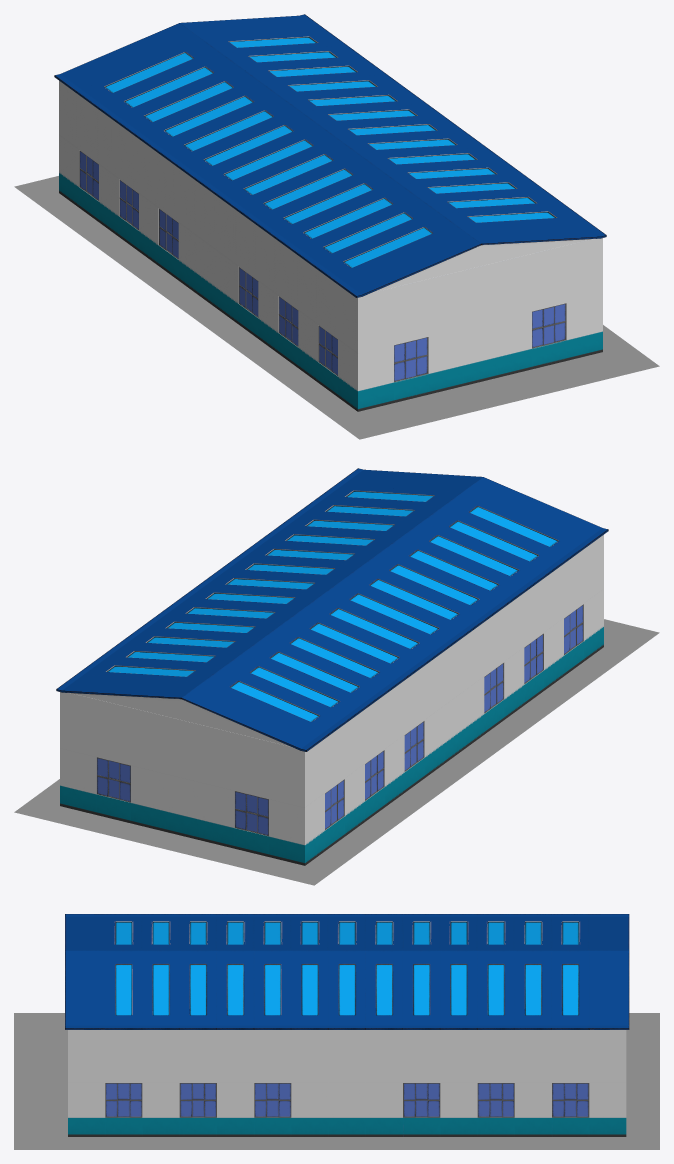
The picture shows the model from 3 angles, top to bottom: view 1: azimuth 30°, elevation 25°; view 2: azimuth 150°, elevation 25°; view 3: azimuth 270°, elevation 25°; orthographic projection. The views are drawn at different scales.
Visible parts, largest first — view 1: U_CF186, U_CF29, U_CF04, U_CF21, U_CF215, U_CF218, U_CF18, U_CF24, U_CF27, U_CF02, U_CF06, U_CF12 (+69 smaller); view 2: U_CF186, U_CF04, U_CF29, U_CF15, U_CF21, U_CF215, U_CF221, U_CF02, U_CF06, U_CF24, U_CF18, U_CF218 (+69 smaller); view 3: U_CF186, U_CF04, U_CF29, U_CF02, U_CF06, U_CF09, U_CF15, U_CF215, U_CF218, U_CF224, U_CF12, U_CF18 (+53 smaller).
Boxes of the visible parts, x1,y1,x2,y2 form: U_CF186: (14, 176, 659, 439); U_CF29: (335, 219, 606, 297); U_CF04: (54, 14, 325, 92); U_CF21: (175, 103, 445, 179); U_CF215: (255, 161, 525, 238); U_CF218: (235, 146, 505, 223); U_CF18: (135, 74, 405, 150); U_CF24: (215, 132, 485, 208); U_CF27: (315, 205, 584, 282); U_CF02: (195, 117, 465, 194); U_CF06: (76, 30, 345, 107); U_CF12: (115, 59, 385, 136); U_CF186: (14, 619, 659, 885); U_CF04: (56, 673, 327, 751); U_CF29: (337, 468, 608, 546); U_CF15: (157, 600, 427, 677); U_CF21: (177, 586, 447, 663); U_CF215: (257, 528, 527, 604); U_CF221: (297, 498, 567, 575); U_CF02: (198, 571, 467, 648); U_CF06: (78, 659, 347, 736); U_CF24: (217, 557, 487, 633); U_CF18: (138, 615, 407, 692); U_CF218: (237, 542, 507, 619); U_CF186: (14, 1013, 659, 1149); U_CF04: (589, 914, 629, 1029); U_CF29: (65, 914, 105, 1029); U_CF02: (328, 914, 365, 1029); U_CF06: (552, 914, 589, 1029); U_CF09: (514, 914, 551, 1029); U_CF15: (403, 914, 440, 1029); U_CF215: (217, 914, 254, 1029); U_CF218: (254, 914, 291, 1029); U_CF224: (179, 914, 216, 1029); U_CF12: (477, 914, 514, 1029); U_CF18: (440, 914, 477, 1029).
Bounding box in the file's own units: 1741 × 772 × 3470.
